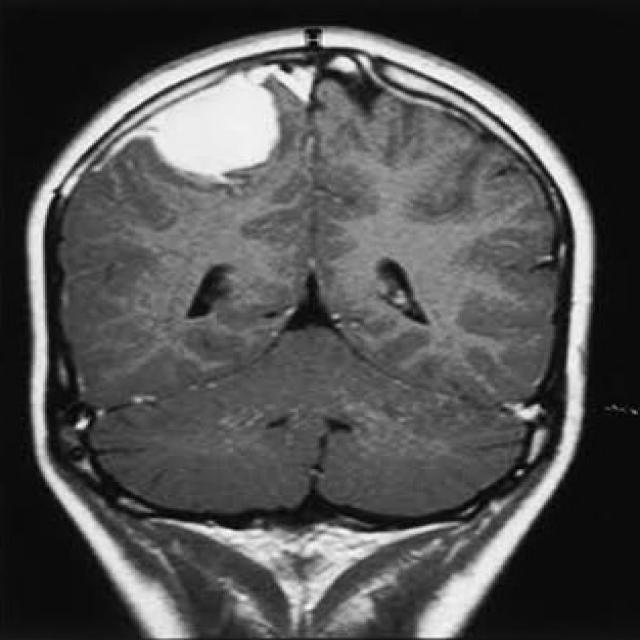brain_tumor: (133, 64, 312, 178)
